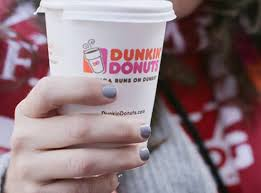dunkin donuts: (25, 1, 179, 161)
